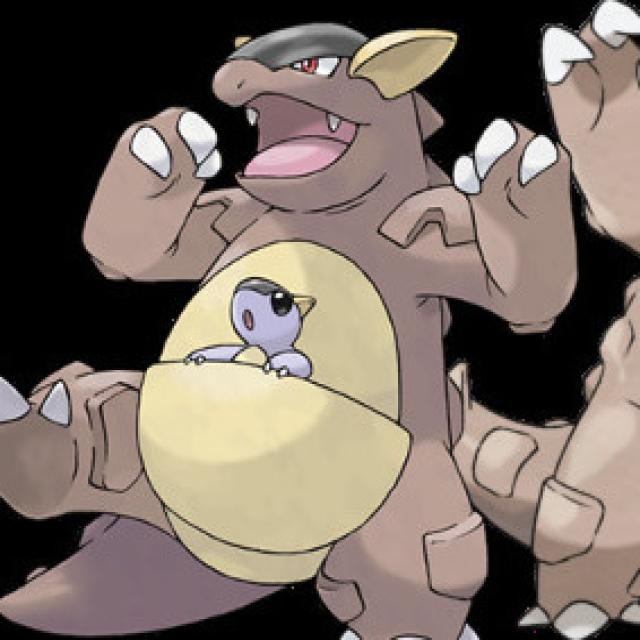Kangaskhan: (55, 21, 499, 634)
